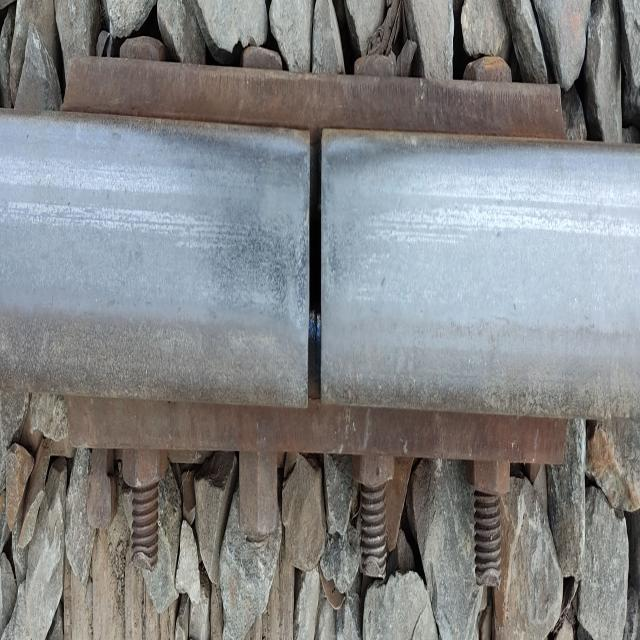Good Joint: (0, 57, 587, 583)
